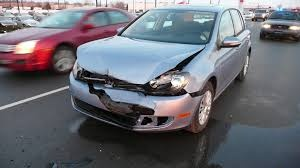Broken-glass: (148, 72, 193, 96)
Smashed: (75, 52, 192, 121)
